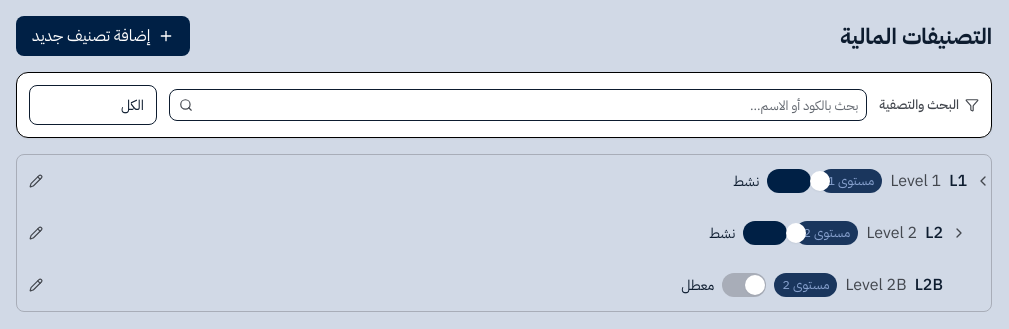
T034: Collapse hides descendants and toggle icon updates › collapsed node can be expanded again
Click the element with class "cursor-pointer" showing "L1 Level 1 مستوى 1 نشط" at [916, 181], box [25,169,991,193]
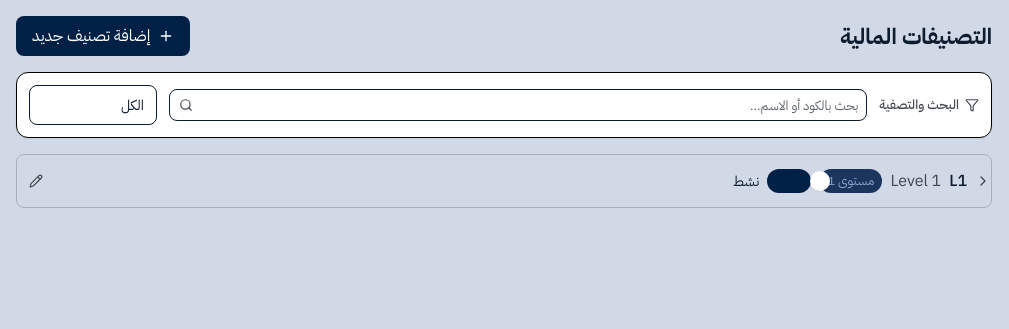
Check: the text "Level 2" is gone
Click the element with class "cursor-pointer" showing "L1 Level 1 مستوى 1 نشط" at [916, 181], box [25,169,991,193]
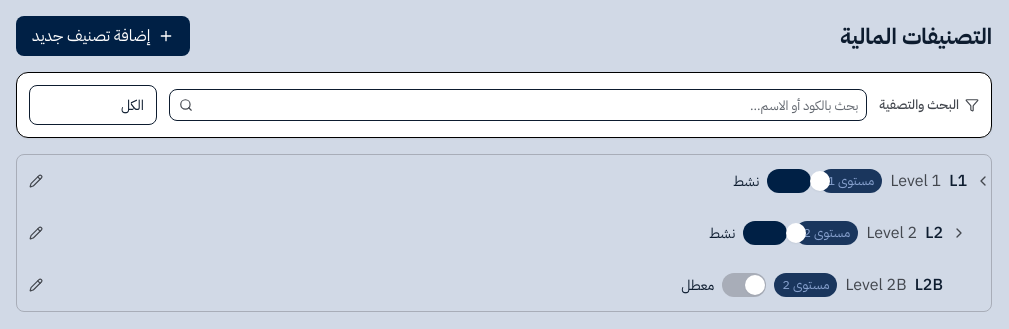
Check: the text "Level 2" is shown, box [866,221,917,245]
